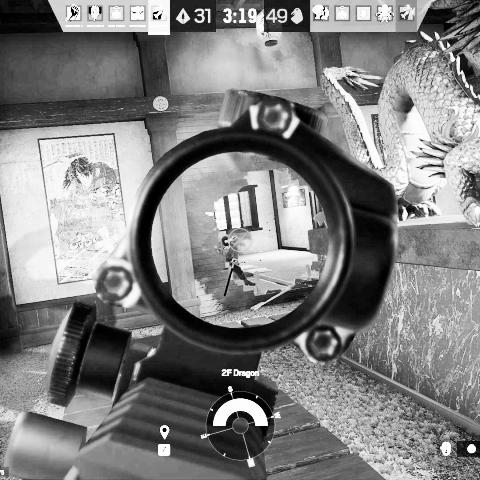Character: (218, 235, 257, 287)
Head: (220, 236, 232, 248)
